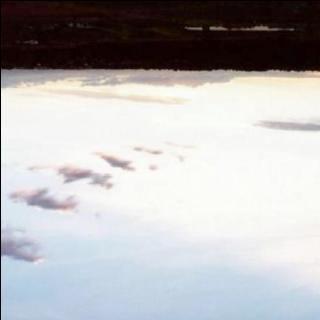Stratocumulus: (0, 71, 320, 262)
